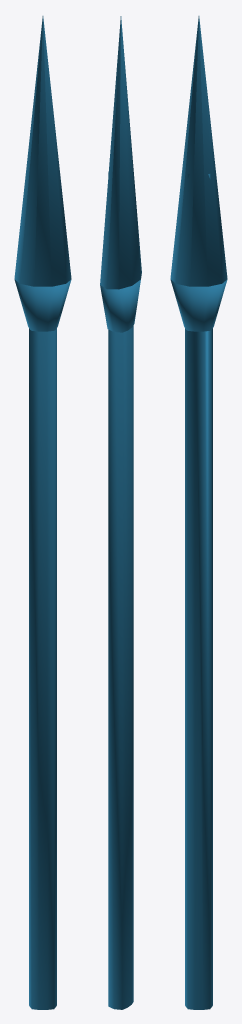
The model's file is FalkeSpear.fbx.
The picture shows the model from 3 angles, left to right: view 1: azimuth 90°, elevation 25°; view 2: azimuth 150°, elevation 25°; view 3: azimuth 270°, elevation 25°; orthographic projection.
Parts seen in each view (by area): view 1: Cylinder.002; view 2: Cylinder.002; view 3: Cylinder.002.
Part boxes in pixels (bbox=[...]): Cylinder.002: bbox=[14, 16, 71, 1009]; Cylinder.002: bbox=[100, 16, 141, 1009]; Cylinder.002: bbox=[170, 16, 227, 1009].
Bounding box in the file's own units: 1.19 × 0.0395 × 0.0624.
